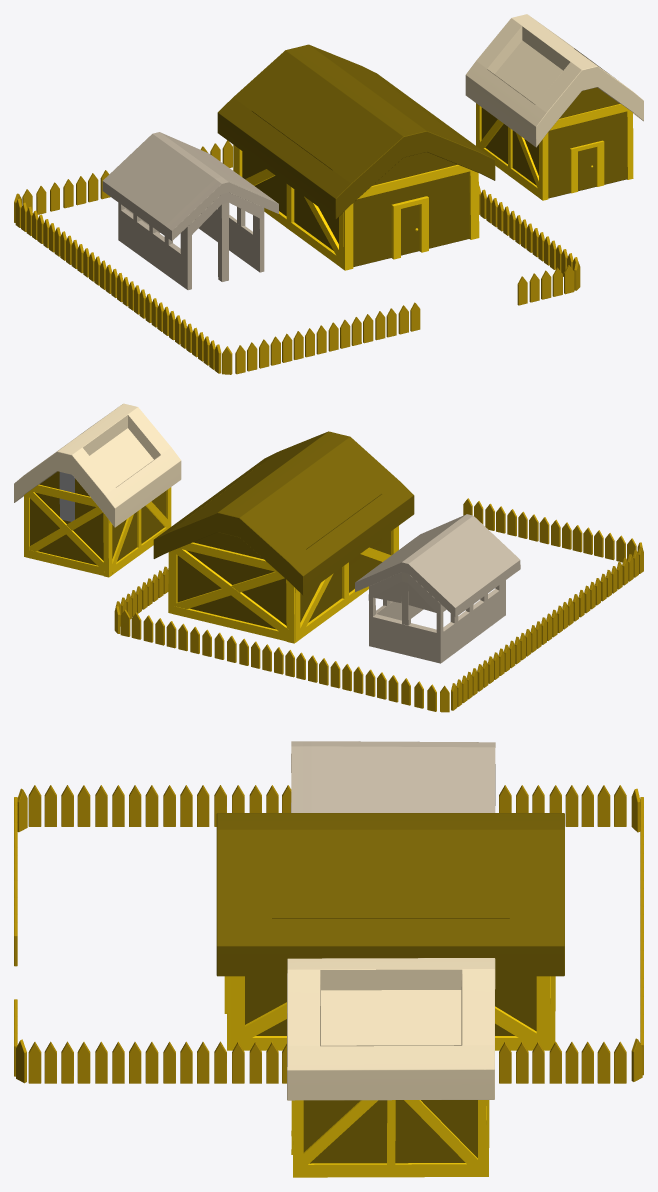
File: mini_houses.fbx
3 renders of one model, top to bottom at view 1: azimuth 30°, elevation 25°; view 2: azimuth 150°, elevation 25°; view 3: azimuth 270°, elevation 25°, orthographic. The views are drawn at different scales.
Parts seen in each view (by area): view 1: pCube1 (×2), House_3, pCube10 (×2), Door (×2), pCube12 (×2), pCube7; view 2: pCube1 (×2), House_3, pCube15 (×2), pCube11 (×2), pCube13 (×2), pCube16 (×2), pCube14 (×2), pCube9, pCube6; view 3: pCube1 (×2), House_3, pCube9 (×2), pCube8 (×2), pCube4 (×2), pCube5 (×2), pCube7, pCube6, pCube3.
Part boxes in pixels (x1=…): pCube1 (×2): x1=217, y1=14, x2=643, y2=266; House_3: x1=102, y1=132, x2=278, y2=289; pCube10 (×2): x1=343, y1=109, x2=633, y2=270; Door (×2): x1=391, y1=140, x2=604, y2=259; pCube12 (×2): x1=357, y1=104, x2=628, y2=199; pCube7: x1=291, y1=222, x2=338, y2=265; pCube1 (×2): x1=14, y1=403, x2=414, y2=629; House_3: x1=355, y1=514, x2=520, y2=663; pCube15 (×2): x1=27, y1=491, x2=289, y2=636; pCube11 (×2): x1=24, y1=492, x2=295, y2=643; pCube13 (×2): x1=26, y1=549, x2=288, y2=641; pCube16 (×2): x1=29, y1=507, x2=284, y2=608; pCube14 (×2): x1=29, y1=484, x2=277, y2=572; pCube9: x1=298, y1=573, x2=333, y2=636; pCube6: x1=300, y1=598, x2=344, y2=638; pCube1 (×2): x1=216, y1=813, x2=564, y2=1163; House_3: x1=291, y1=741, x2=495, y2=812; pCube9 (×2): x1=404, y1=1006, x2=542, y2=1173; pCube8 (×2): x1=238, y1=1002, x2=377, y2=1167; pCube4 (×2): x1=230, y1=976, x2=303, y2=1177; pCube5 (×2): x1=478, y1=976, x2=550, y2=1176; pCube7: x1=303, y1=1163, x2=387, y2=1177; pCube6: x1=395, y1=1163, x2=477, y2=1177; pCube3: x1=387, y1=1100, x2=395, y2=1177.
Size of the model in its own units: 14.48 by 3.5 by 10.47.
